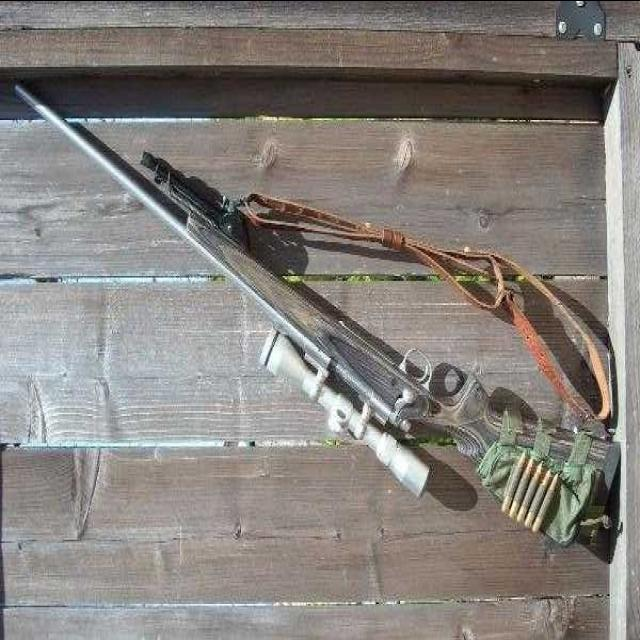heavyweapon: (4, 72, 638, 602)
